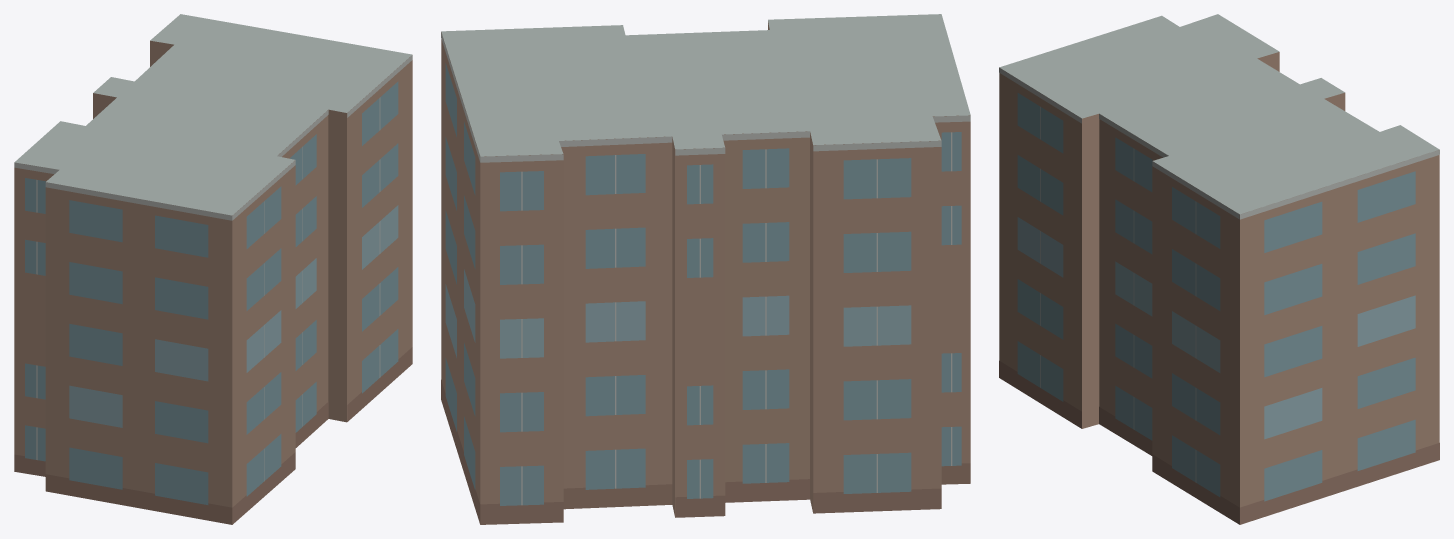
File: survey-upis-32782911.glb
3 renders of one model, left to right at view 1: azimuth 30°, elevation 25°; view 2: azimuth 150°, elevation 25°; view 3: azimuth 270°, elevation 25°, orthographic. The views are drawn at different scales.
Parts seen in each view (by area): view 1: survey-upis-32782911.tmp; view 2: survey-upis-32782911.tmp; view 3: survey-upis-32782911.tmp.
Part boxes in pixels (x1=…): survey-upis-32782911.tmp: x1=14, y1=14, x2=412, y2=524; survey-upis-32782911.tmp: x1=441, y1=14, x2=970, y2=524; survey-upis-32782911.tmp: x1=999, y1=14, x2=1439, y2=524.
Size of the model in its own units: 20.09 by 14.5 by 18.66.
